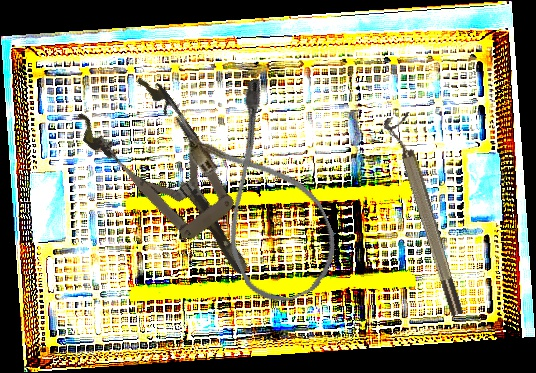Cannula: (171, 74, 352, 315)
Fixation Ring: (381, 112, 468, 320)
Speculum: (69, 64, 282, 302)
